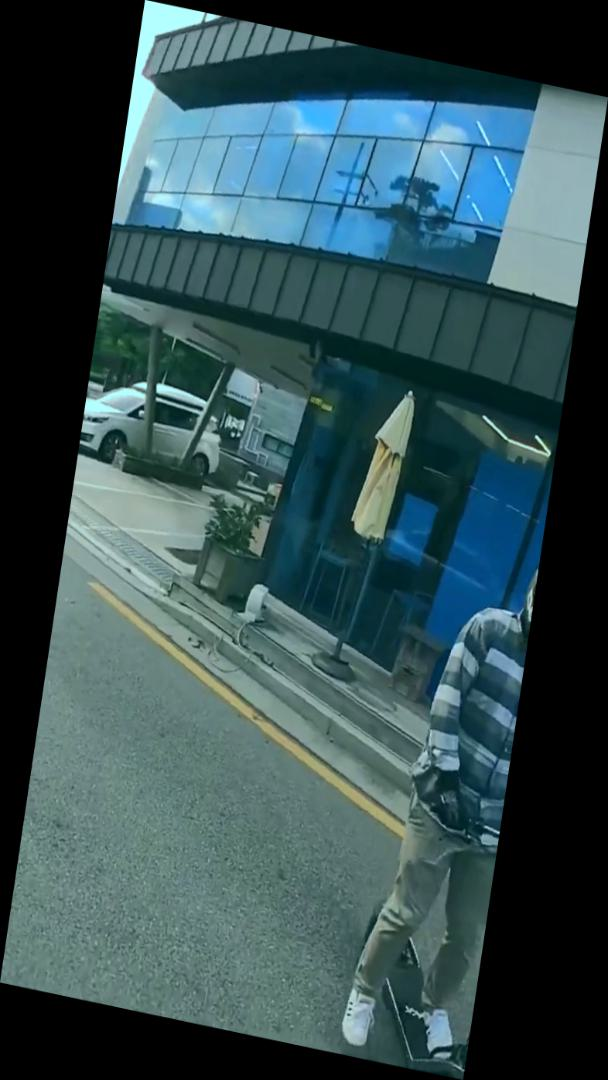helmet: (335, 535, 540, 1080)
